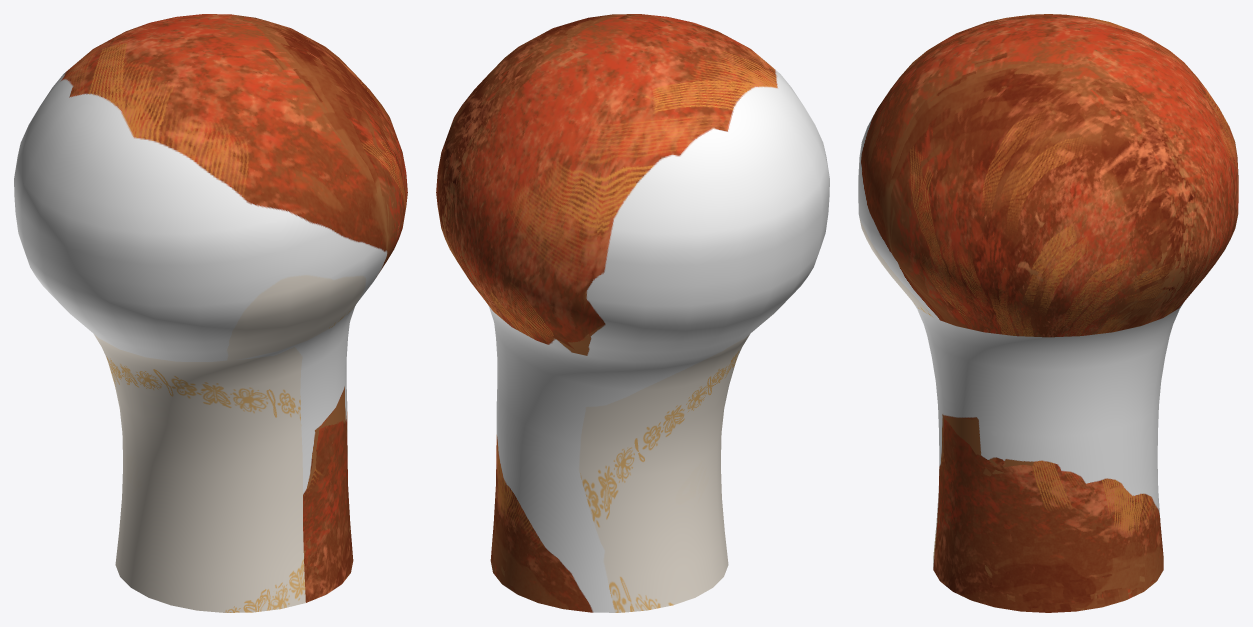
File: PuffMushroom.obj
The picture shows the model from 3 angles, left to right: view 1: azimuth 30°, elevation 25°; view 2: azimuth 150°, elevation 25°; view 3: azimuth 270°, elevation 25°; orthographic projection. The views are drawn at different scales.
Visible parts, largest first — view 1: pSphere1; view 2: pSphere1; view 3: pSphere1.
Part boxes in pixels (box(x1,y1,x2,y2)): pSphere1: box(14, 14, 407, 612); pSphere1: box(436, 14, 829, 612); pSphere1: box(858, 14, 1238, 612).
Size of the model in its own units: 2.07 by 3.08 by 2.05.
